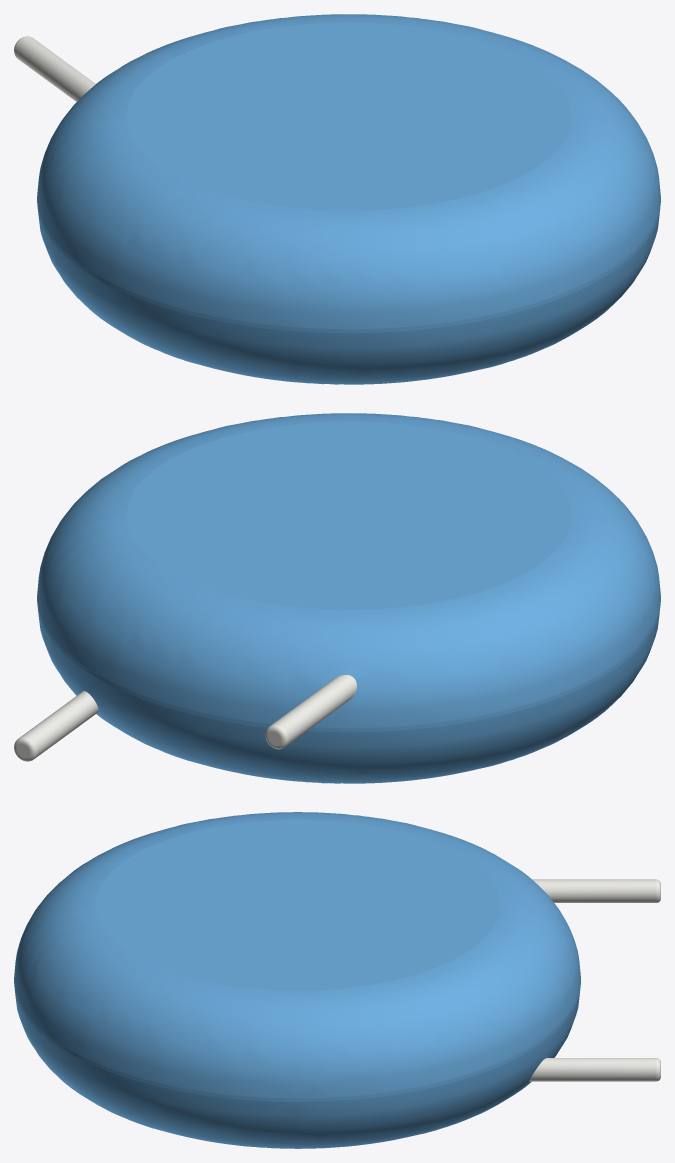
Rendered from RV_Disc_D21.5mm_W6.3mm_P10mm.glb.
The picture shows the model from 3 angles, top to bottom: view 1: azimuth 30°, elevation 25°; view 2: azimuth 150°, elevation 25°; view 3: azimuth 270°, elevation 25°; orthographic projection. The views are drawn at different scales.
Visible parts, largest first — view 1: Shape_IndexedFaceSet.001, Shape_IndexedFaceSet.003, Shape_IndexedFaceSet.002, Shape_IndexedFaceSet, Shape_IndexedFaceSet.004; view 2: Shape_IndexedFaceSet.001, Shape_IndexedFaceSet.003, Shape_IndexedFaceSet.002, Shape_IndexedFaceSet, Shape_IndexedFaceSet.004, Shape_IndexedFaceSet.006; view 3: Shape_IndexedFaceSet.001, Shape_IndexedFaceSet.003, Shape_IndexedFaceSet.002, Shape_IndexedFaceSet.006, Shape_IndexedFaceSet.004, Shape_IndexedFaceSet.
Boxes of the visible parts, box(x1,y1,x2,y2) form: Shape_IndexedFaceSet.001: box(37, 14, 660, 329); Shape_IndexedFaceSet.003: box(126, 22, 571, 210); Shape_IndexedFaceSet.002: box(37, 205, 660, 384); Shape_IndexedFaceSet: box(37, 199, 660, 333); Shape_IndexedFaceSet.004: box(14, 36, 95, 101); Shape_IndexedFaceSet.001: box(37, 413, 660, 728); Shape_IndexedFaceSet.003: box(126, 421, 571, 609); Shape_IndexedFaceSet.002: box(37, 607, 660, 783); Shape_IndexedFaceSet: box(37, 598, 660, 732); Shape_IndexedFaceSet.004: box(271, 674, 356, 745); Shape_IndexedFaceSet.006: box(20, 691, 98, 758); Shape_IndexedFaceSet.001: box(14, 812, 580, 1098); Shape_IndexedFaceSet.003: box(95, 819, 499, 990); Shape_IndexedFaceSet.002: box(14, 986, 580, 1148); Shape_IndexedFaceSet.006: box(529, 1058, 656, 1081); Shape_IndexedFaceSet.004: box(532, 879, 656, 902); Shape_IndexedFaceSet: box(14, 980, 580, 1101).
Bounding box in the file's own units: 8.47 × 2.48 × 9.66.
